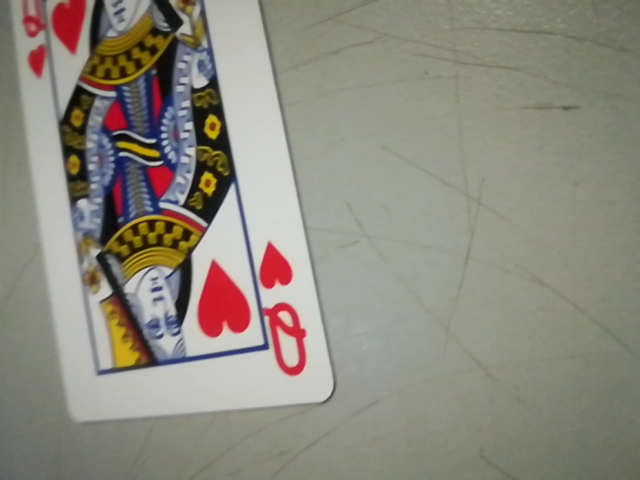hx q: (251, 229, 317, 392)
